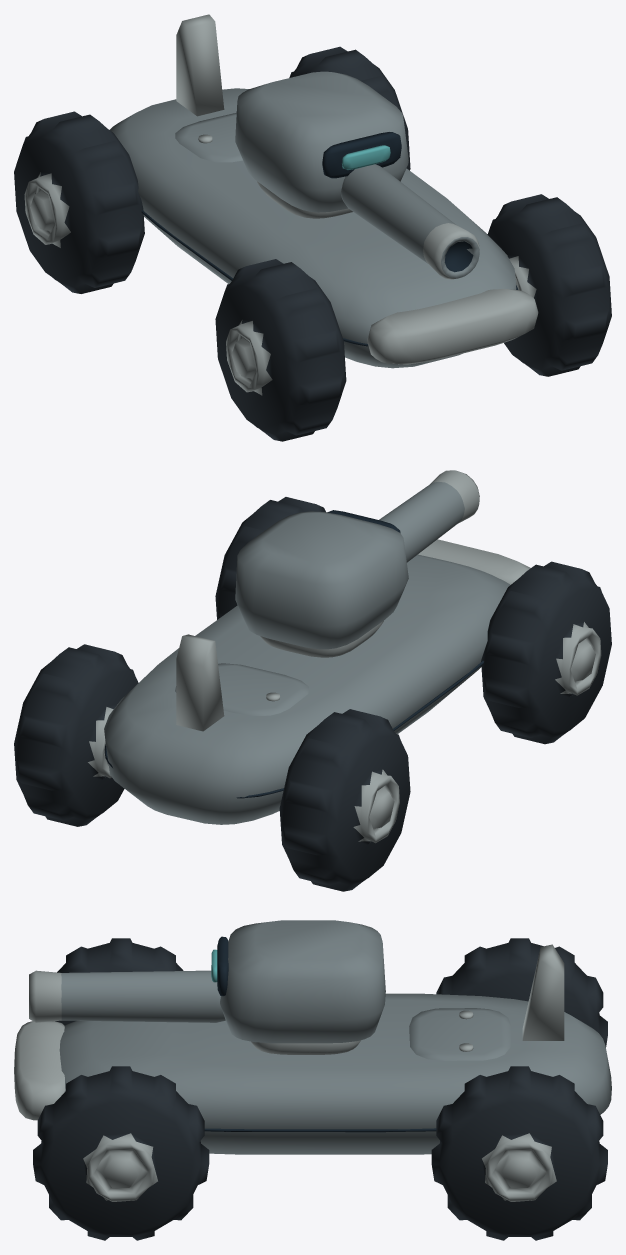
File: TOY_SCOUT.lo.glb
3 renders of one model, top to bottom at view 1: azimuth 30°, elevation 25°; view 2: azimuth 150°, elevation 25°; view 3: azimuth 270°, elevation 25°, orthographic.
Visible parts, largest first — view 1: Body, WheelsFront, WheelsRear, TurretYaw, BarrelRecoil; view 2: Body, WheelsRear, WheelsFront, TurretYaw, BarrelRecoil; view 3: Body, WheelsRear, WheelsFront, TurretYaw, BarrelRecoil.
Boxes of the visible parts, left/top/right/bottom form: Body: left=110, top=14, right=538, bottom=368; WheelsFront: left=215, top=194, right=611, bottom=441; WheelsRear: left=14, top=46, right=410, bottom=293; TurretYaw: left=235, top=71, right=408, bottom=218; BarrelRecoil: left=341, top=164, right=479, bottom=279; Body: left=104, top=539, right=530, bottom=824; WheelsRear: left=14, top=644, right=410, bottom=891; WheelsFront: left=215, top=497, right=611, bottom=744; TurretYaw: left=235, top=510, right=408, bottom=657; BarrelRecoil: left=379, top=470, right=479, bottom=562; Body: left=14, top=944, right=611, bottom=1154; WheelsRear: left=431, top=938, right=607, bottom=1240; WheelsFront: left=33, top=938, right=209, bottom=1240; TurretYaw: left=211, top=920, right=385, bottom=1054; BarrelRecoil: left=29, top=970, right=225, bottom=1022.
Bounding box in the file's own units: 0.6651 × 0.425 × 1.
